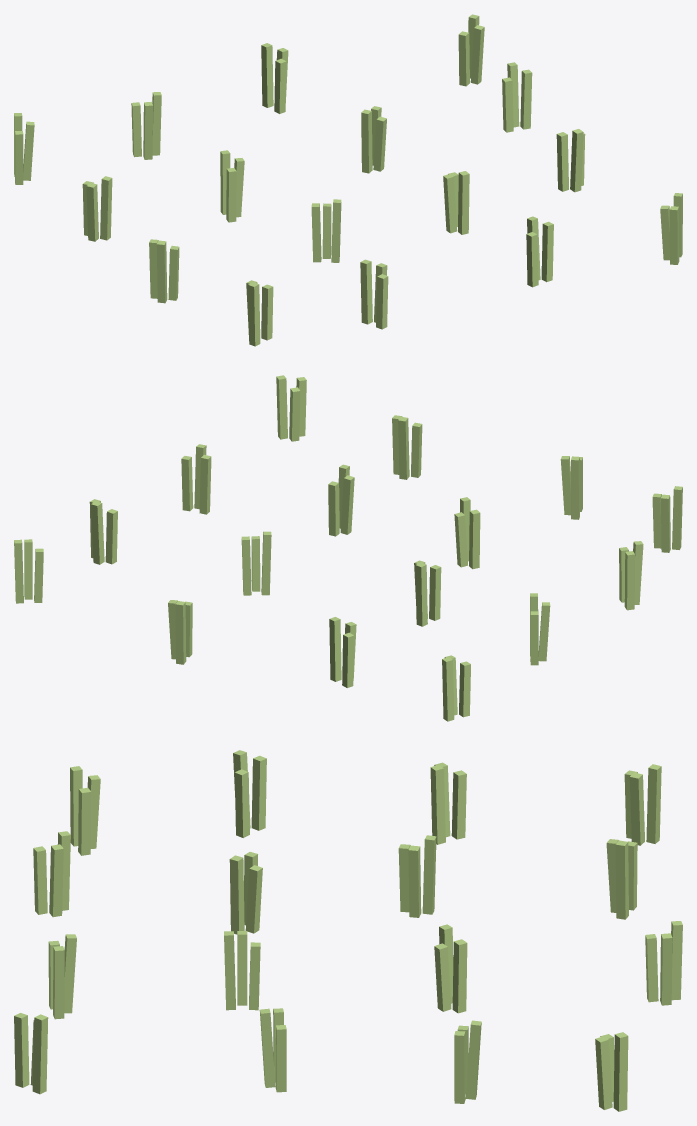
The model's file is crop_wheat_sprout.glb.
3 renders of one model, top to bottom at view 1: azimuth 30°, elevation 25°; view 2: azimuth 150°, elevation 25°; view 3: azimuth 270°, elevation 25°, orthographic. The views are drawn at different scales.
Visible parts, largest first — view 1: wheat_green; view 2: wheat_green; view 3: wheat_green.
Boxes of the visible parts, x1,y1,x2,y2 form: wheat_green: [14, 14, 682, 346]; wheat_green: [14, 375, 682, 721]; wheat_green: [14, 750, 682, 1111].
Size of the model in its own units: 0.8279 by 0.1006 by 0.8121.
